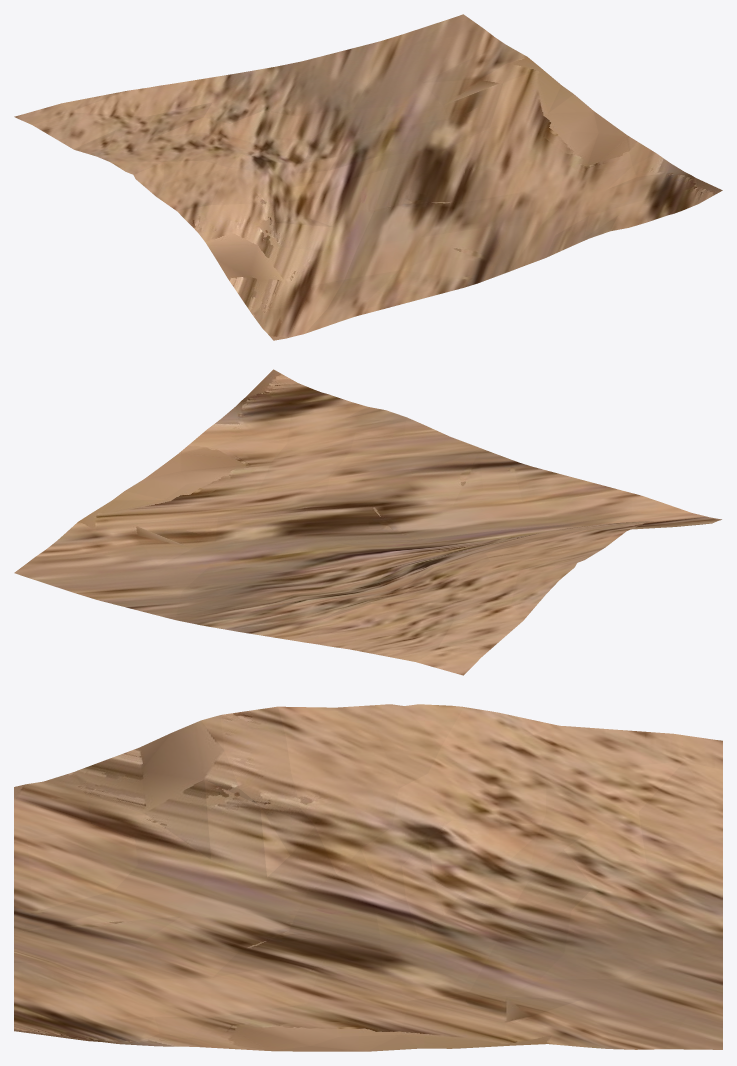
The picture shows the model from 3 angles, top to bottom: view 1: azimuth 30°, elevation 25°; view 2: azimuth 150°, elevation 25°; view 3: azimuth 270°, elevation 25°; orthographic projection. The views are drawn at different scales.
Size of the model in its own units: 1.04 by 0.1367 by 1.04.
Materials: 2 (2 with a texture image).
